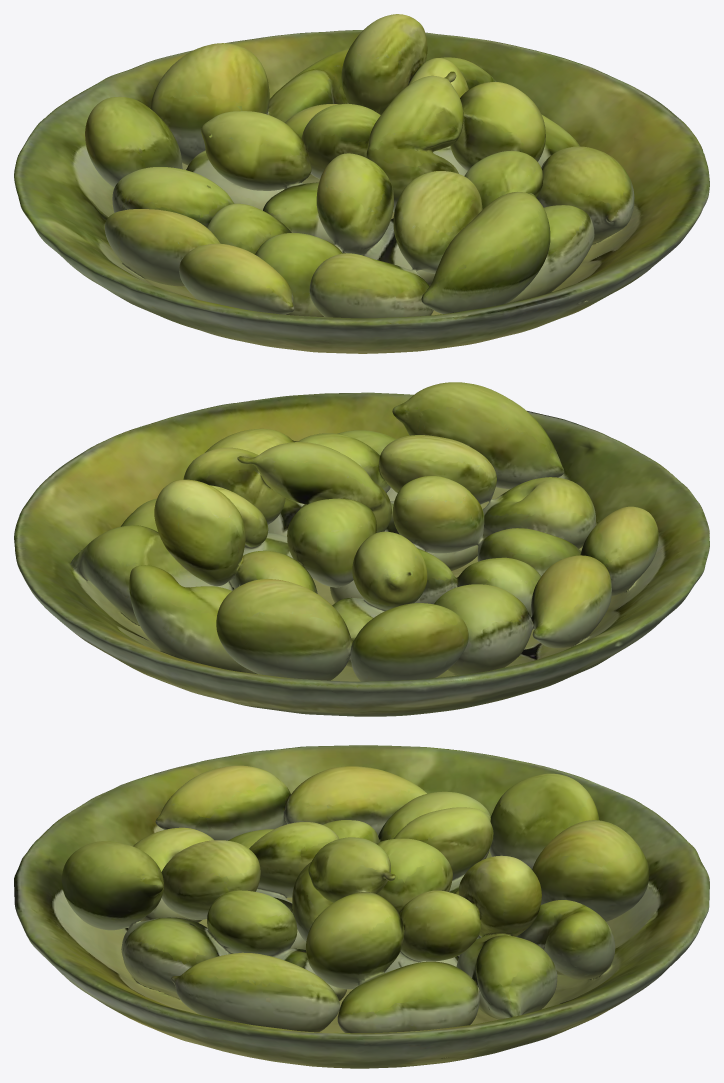
File: cardamom-bowl.glb
The picture shows the model from 3 angles, top to bottom: view 1: azimuth 30°, elevation 25°; view 2: azimuth 150°, elevation 25°; view 3: azimuth 270°, elevation 25°; orthographic projection.
Parts seen in each view (by area): view 1: Object_4; view 2: Object_4; view 3: Object_4.
Boxes of the visible parts, left/top/right/bottom form: Object_4: left=14, top=14, right=709, bottom=353; Object_4: left=14, top=382, right=709, bottom=716; Object_4: left=14, top=745, right=709, bottom=1068.
Size of the model in its own units: 2 by 0.5176 by 2.
1 material, 1 textured.
